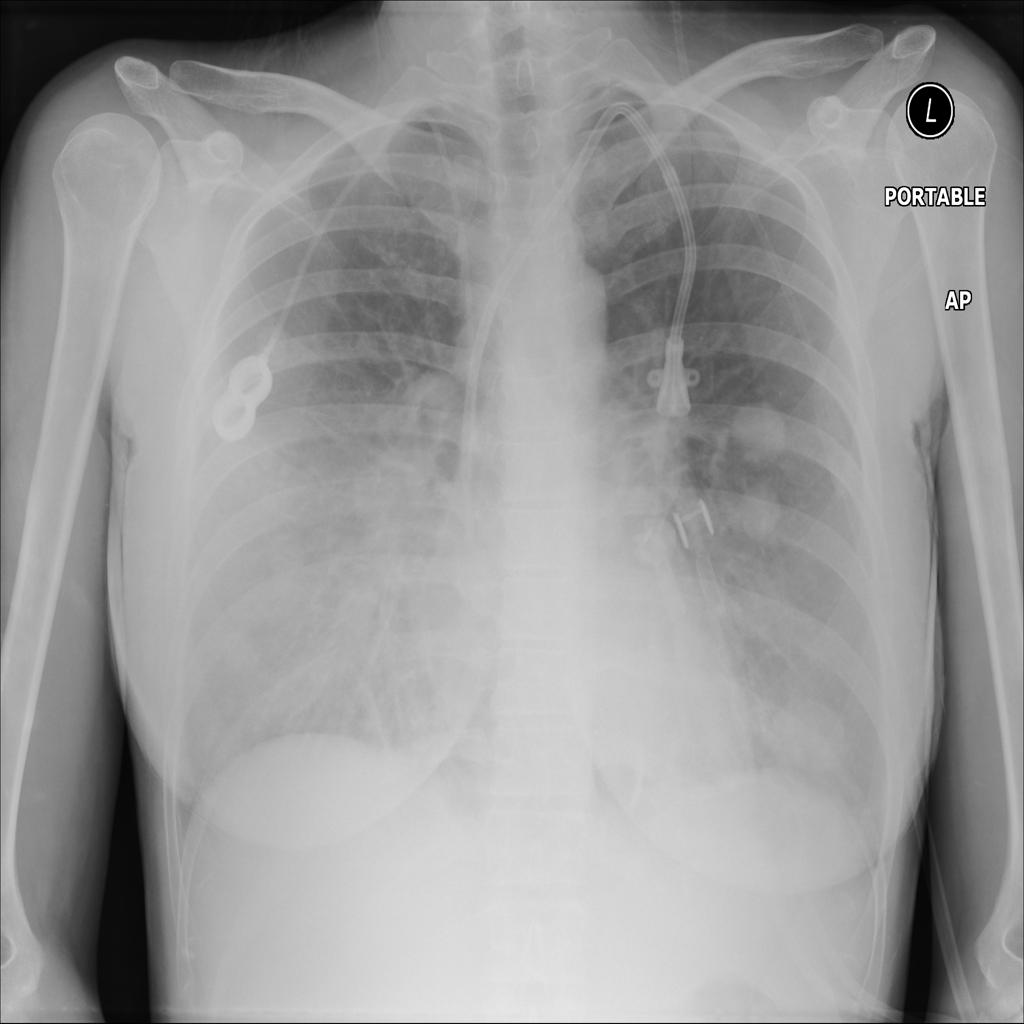nodule: (757, 674, 860, 789), (727, 390, 798, 475), (396, 360, 473, 434), (206, 609, 272, 689), (727, 471, 789, 555), (620, 505, 682, 584)
